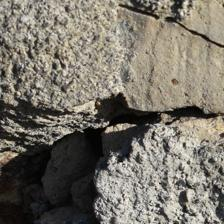Crack: (80, 126, 126, 168), (99, 78, 124, 144)
